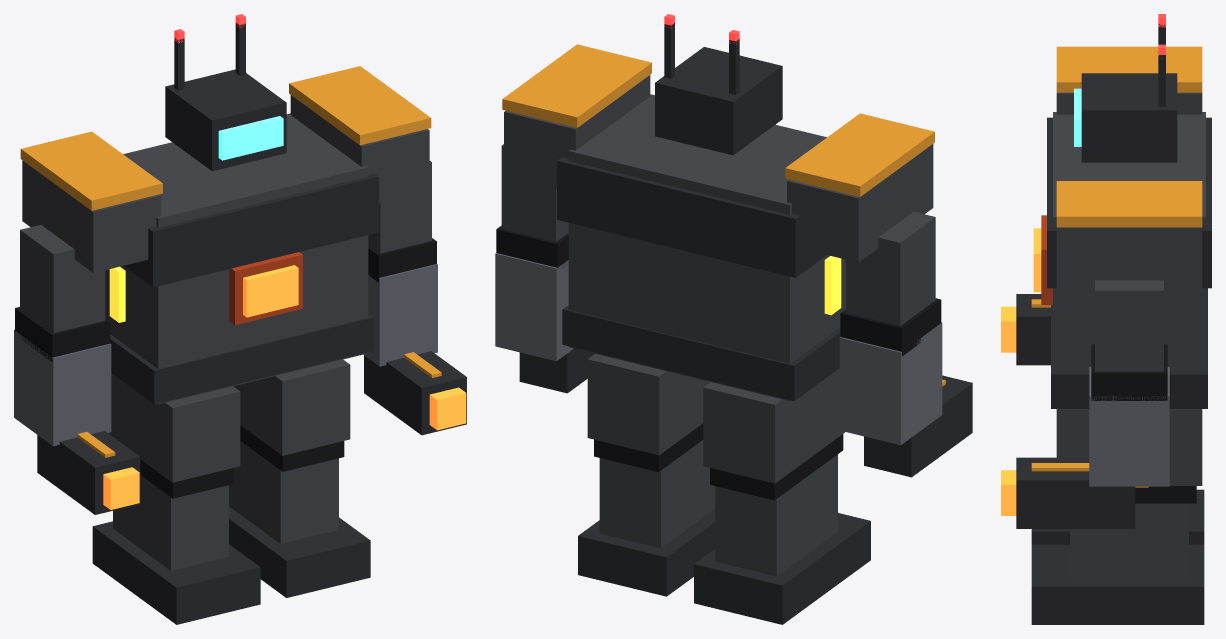
The model's file is mechs__combatMech.glb.
The picture shows the model from 3 angles, left to right: view 1: azimuth 30°, elevation 25°; view 2: azimuth 150°, elevation 25°; view 3: azimuth 270°, elevation 25°; orthographic projection. The views are drawn at different scales.
Visible parts, largest first — view 1: mechs__combatMech, rig_legL, rig_legR, rig_armL, rig_armR; view 2: mechs__combatMech, rig_legL, rig_legR, rig_armL, rig_armR; view 3: mechs__combatMech, rig_armR, rig_legR, rig_armL, rig_legL.
Part boxes in pixels (box(x1,y1,x2,y2)): mechs__combatMech: box(20, 14, 431, 404); rig_legL: box(92, 373, 260, 624); rig_legR: box(229, 359, 370, 597); rig_armL: box(14, 225, 140, 514); rig_armR: box(363, 161, 466, 435); mechs__combatMech: box(502, 14, 934, 400); rig_legL: box(694, 368, 870, 624); rig_legR: box(578, 353, 715, 596); rig_armL: box(839, 211, 972, 477); rig_armR: box(495, 144, 594, 393); mechs__combatMech: box(1033, 14, 1211, 408); rig_armR: box(1001, 280, 1169, 528); rig_legR: box(1031, 409, 1204, 624); rig_armL: box(1001, 294, 1050, 365); rig_legL: box(1031, 489, 1204, 544).
Bounding box in the file's own units: 2.38 × 3.14 × 1.1.
